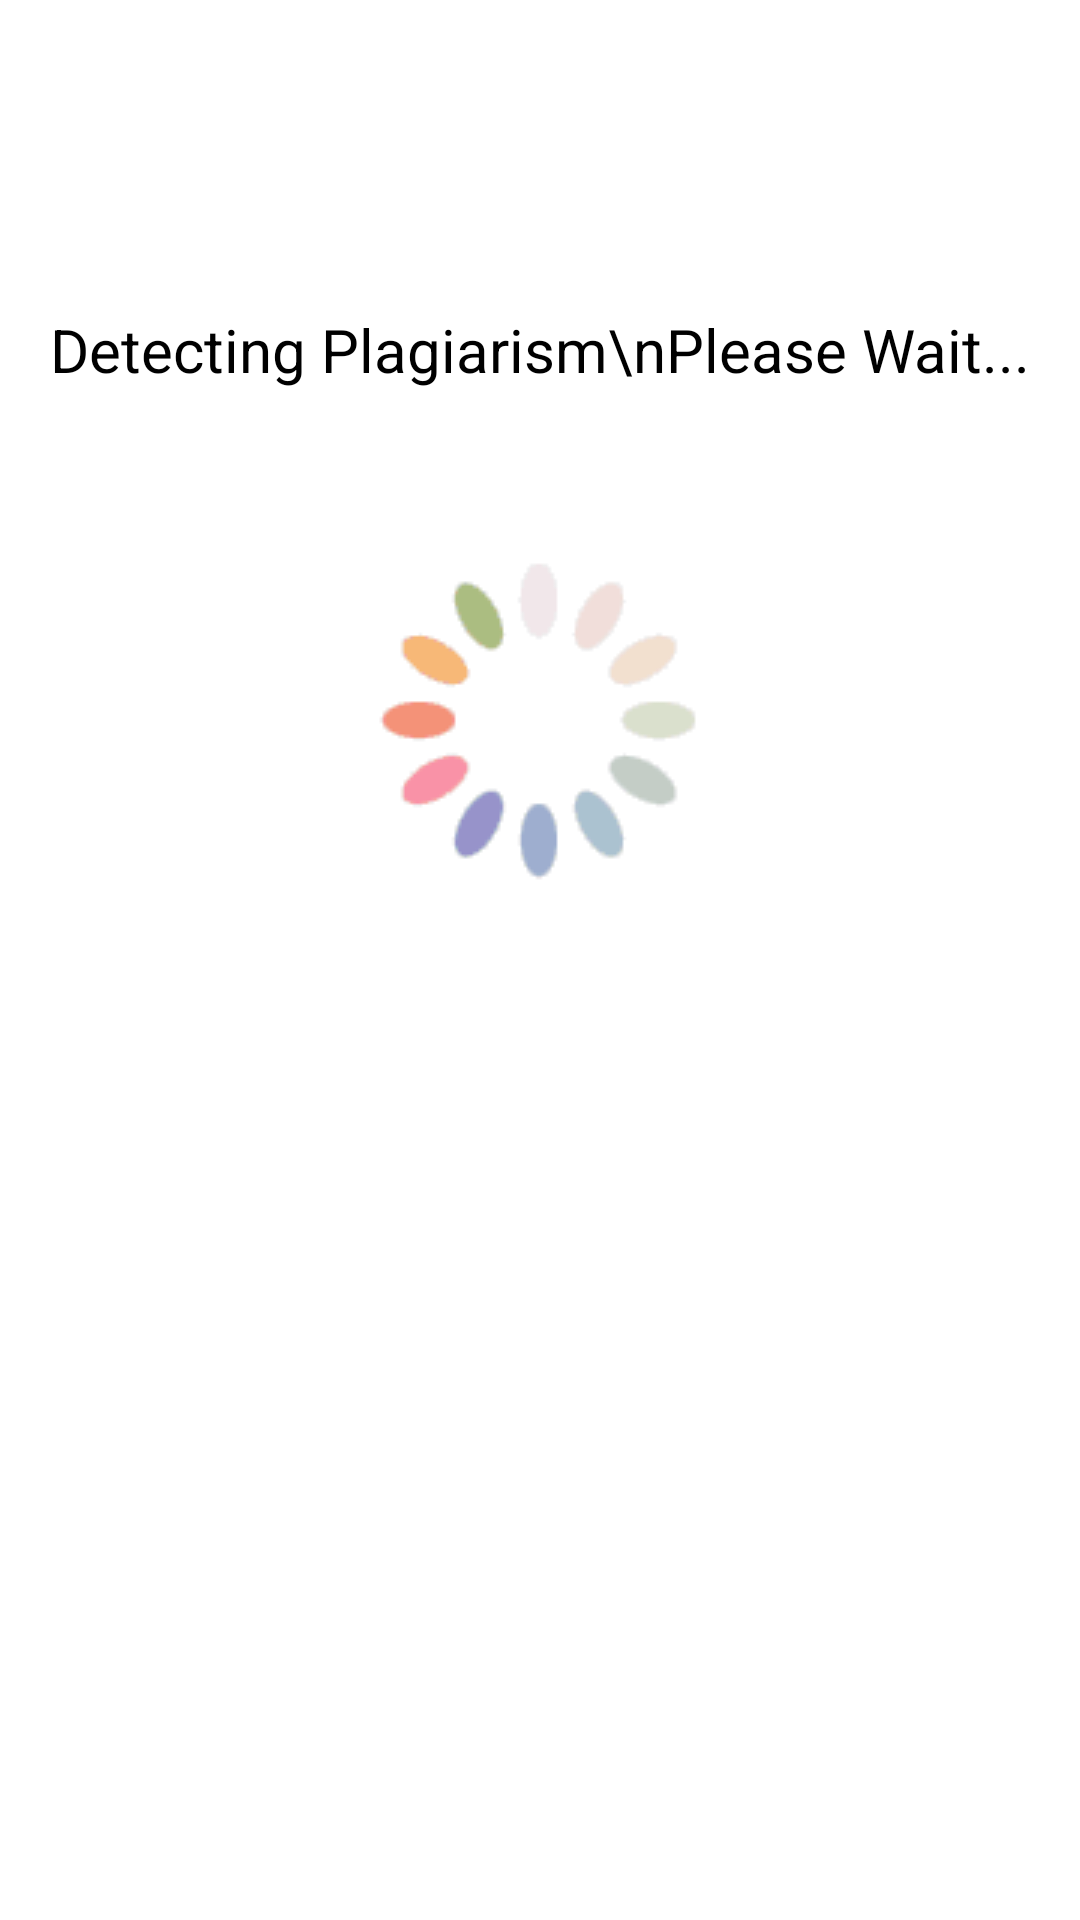

Named icons in this screenshot (1080 x 1920) and their bounding boxes, box(x1, y1, x2, y2):
loading: box(382, 582, 695, 878)
